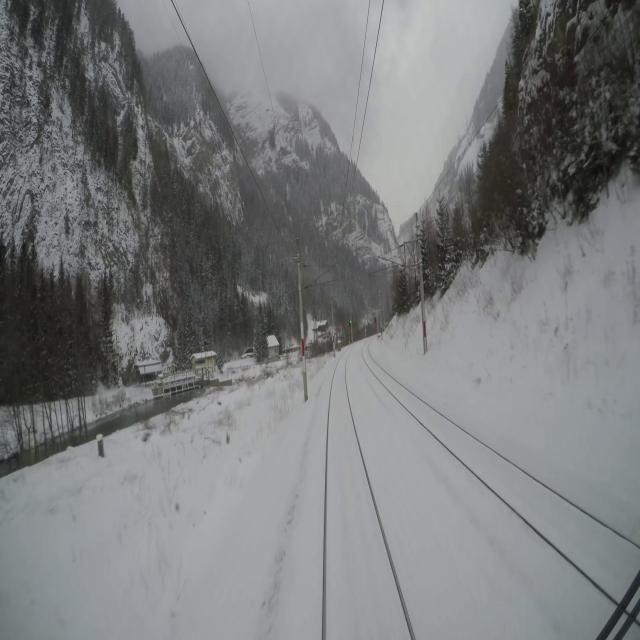rail-track: (363, 345, 640, 601), (327, 353, 410, 639)
